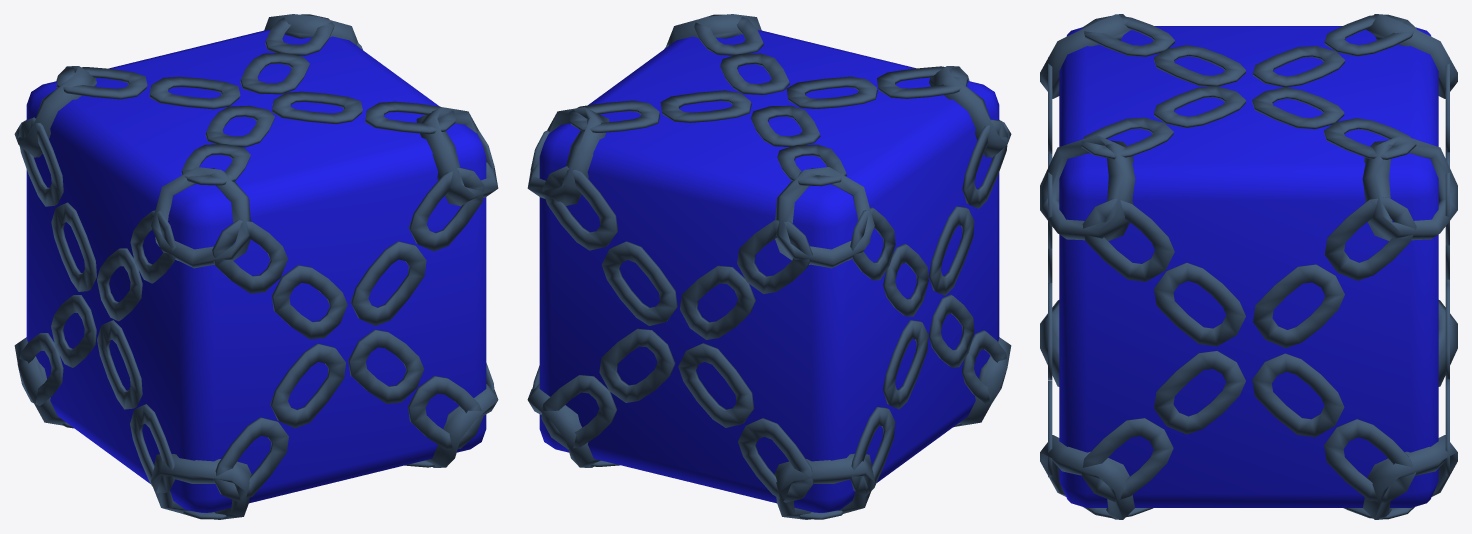
The model's file is StrappedKube_02.fbx.
3 views of the same model, side by side, from view 1: azimuth 30°, elevation 25°; view 2: azimuth 150°, elevation 25°; view 3: azimuth 270°, elevation 25° (orthographic). The views are drawn at different scales.
Parts seen in each view (by area): view 1: Kube, Strapping, StrappingBroken.001, StrappingBroken.002, StrappingBroken.003, StrappingBroken.004; view 2: Kube, Strapping, StrappingBroken.003, StrappingBroken.001, StrappingBroken.004, StrappingBroken.002; view 3: Kube, Strapping, StrappingBroken.003, StrappingBroken.001, StrappingBroken.002, StrappingBroken.004.
Part boxes in pixels (box(x1,y1,x2,y2)): Kube: box(26, 30, 486, 512); Strapping: box(15, 14, 498, 518); StrappingBroken.001: box(97, 93, 497, 338); StrappingBroken.002: box(97, 320, 497, 519); StrappingBroken.003: box(14, 15, 361, 291); StrappingBroken.004: box(14, 299, 94, 427); Kube: box(539, 30, 999, 512); Strapping: box(527, 14, 1011, 519); StrappingBroken.003: box(528, 90, 928, 339); StrappingBroken.001: box(666, 23, 1010, 294); StrappingBroken.004: box(532, 329, 926, 519); StrappingBroken.002: box(928, 294, 1011, 427); Kube: box(1059, 26, 1438, 507); Strapping: box(1040, 14, 1457, 519); StrappingBroken.003: box(1252, 14, 1457, 347); StrappingBroken.001: box(1040, 14, 1245, 346); StrappingBroken.002: box(1040, 300, 1242, 519); StrappingBroken.004: box(1256, 300, 1456, 519).
Bounding box in the file's own units: 220 × 220 × 220.
